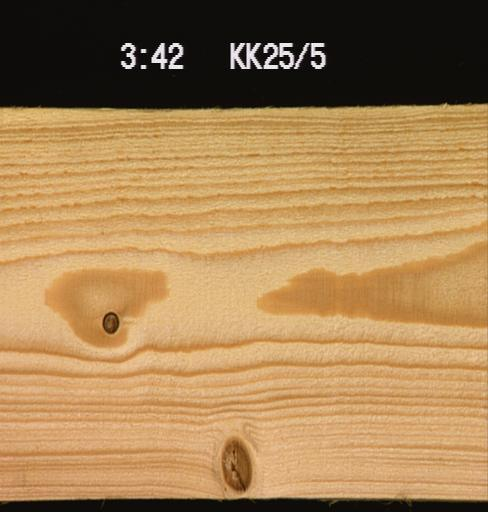dry_knot: (98, 308, 121, 335)
sound_knot: (218, 436, 254, 493)
